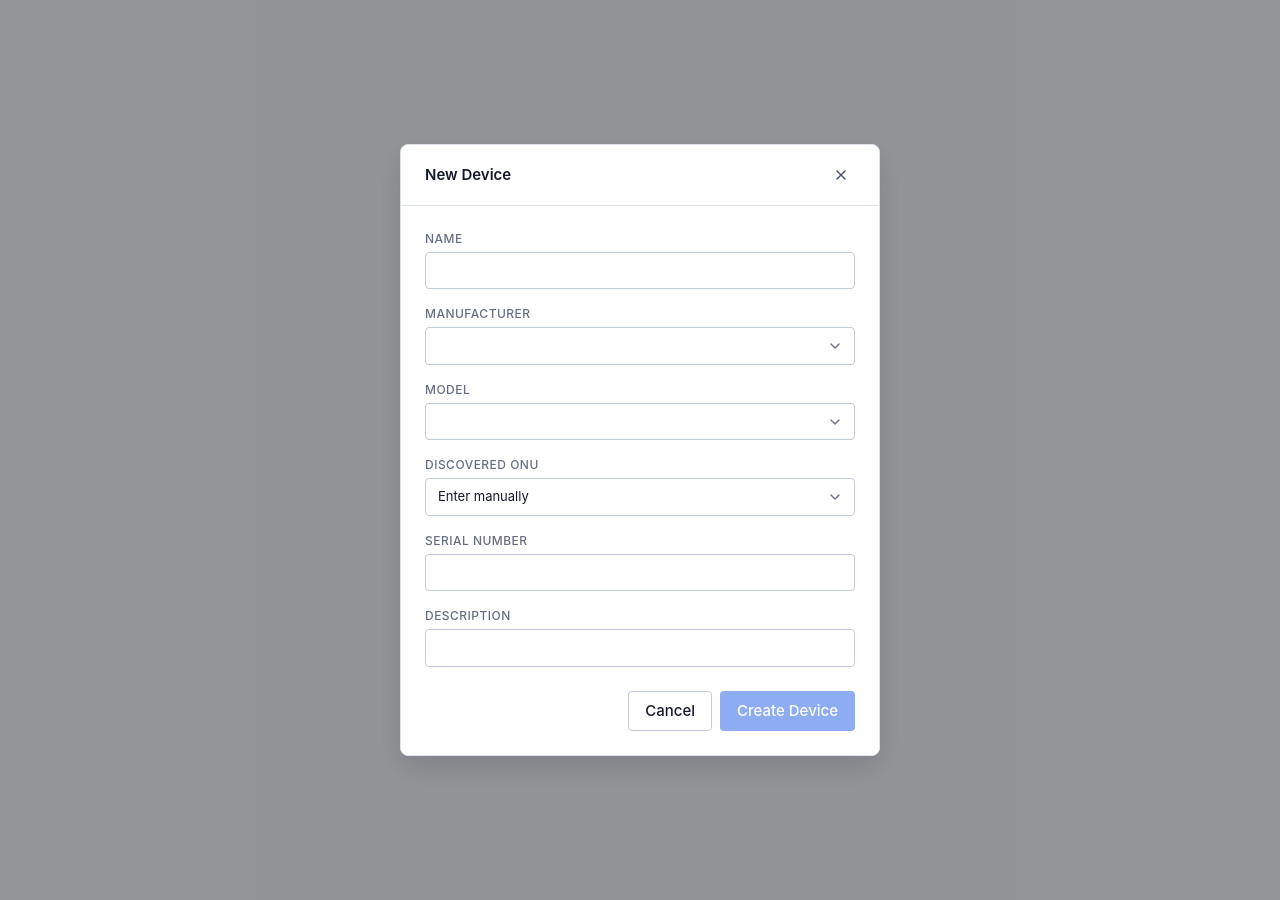
Test case: Discovered ONU picker (create mode) › selecting a blacklisted ONU locks Serial Number to it
Select "ISKT001 — OLT-A (xgs/6)" in the dropdown labelled "Discovered ONU". click: [640, 497]
box: x1=425 y1=478 x2=855 y2=516
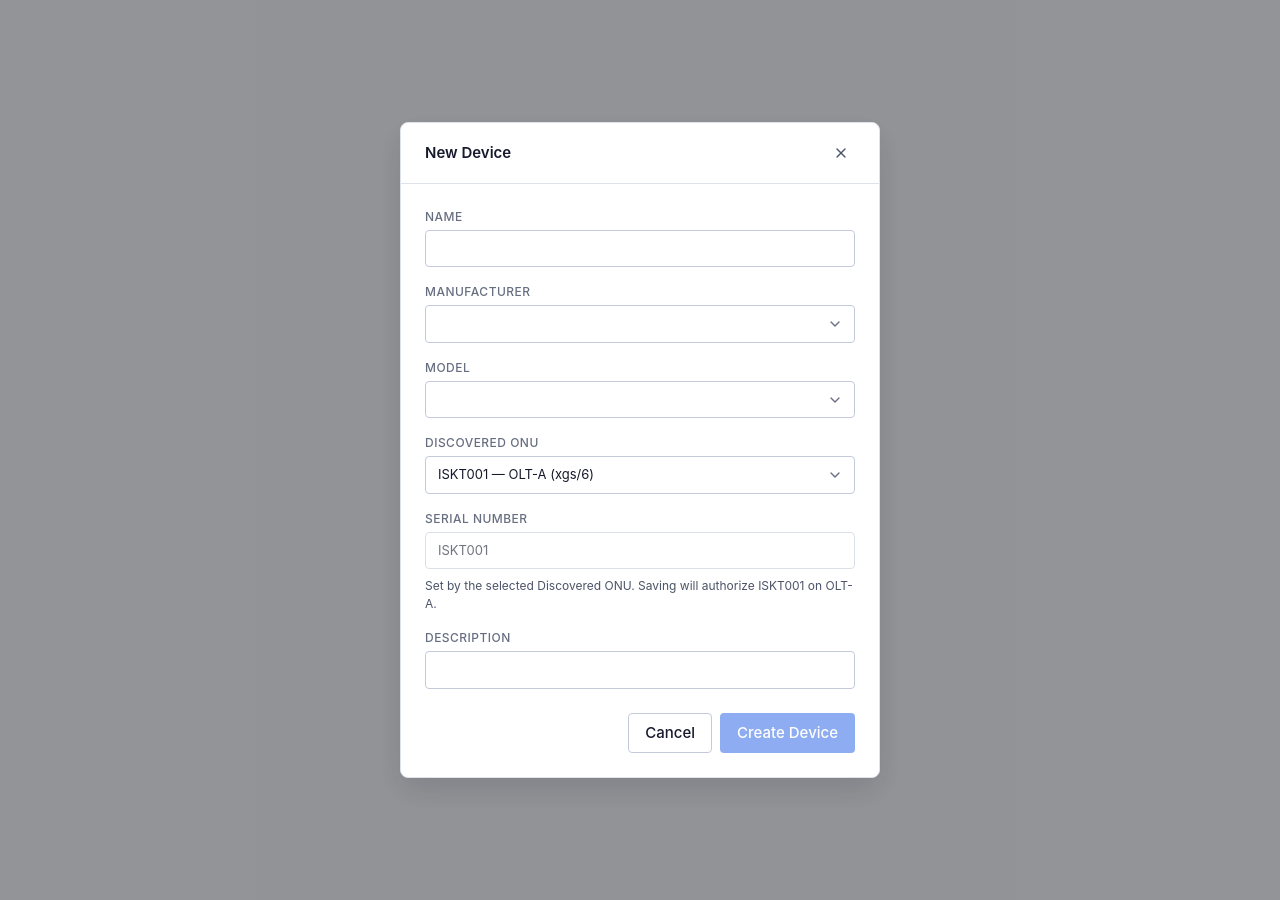
Check: the field labelled "Serial Number" holds "ISKT001", box x1=425 y1=532 x2=855 y2=569
Check: the field labelled "Serial Number" is disabled, box x1=425 y1=532 x2=855 y2=569
